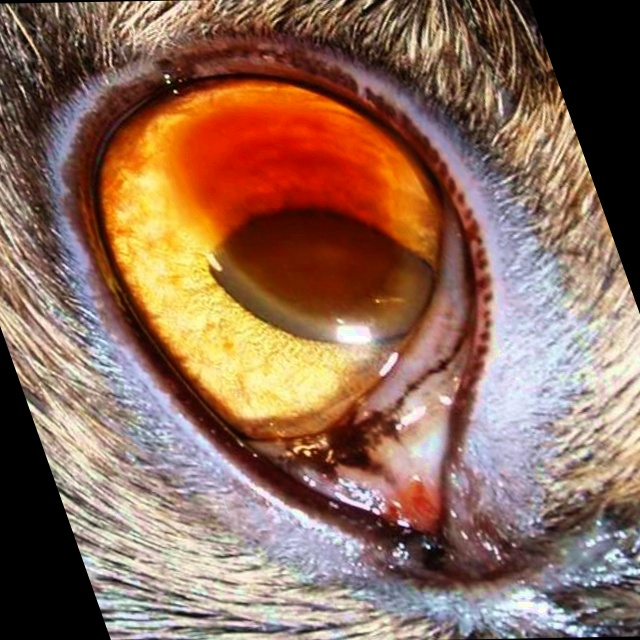eye_infection: (22, 67, 586, 554)
